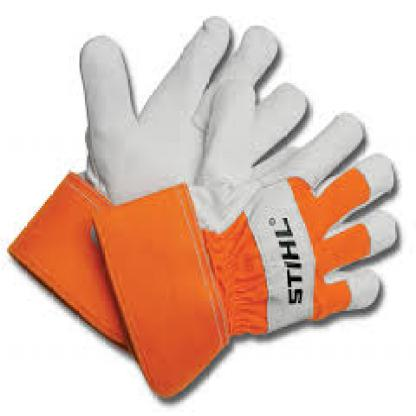with_gloves: (11, 18, 309, 348), (95, 83, 397, 402)
